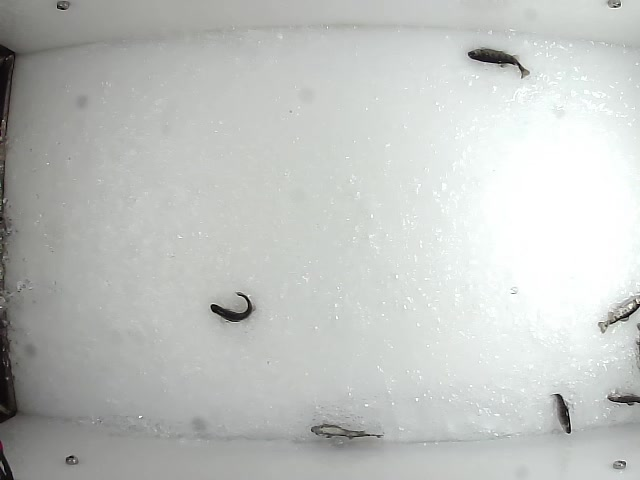fish: (465, 46, 532, 81), (209, 289, 257, 324), (309, 424, 384, 441), (549, 391, 572, 436)
